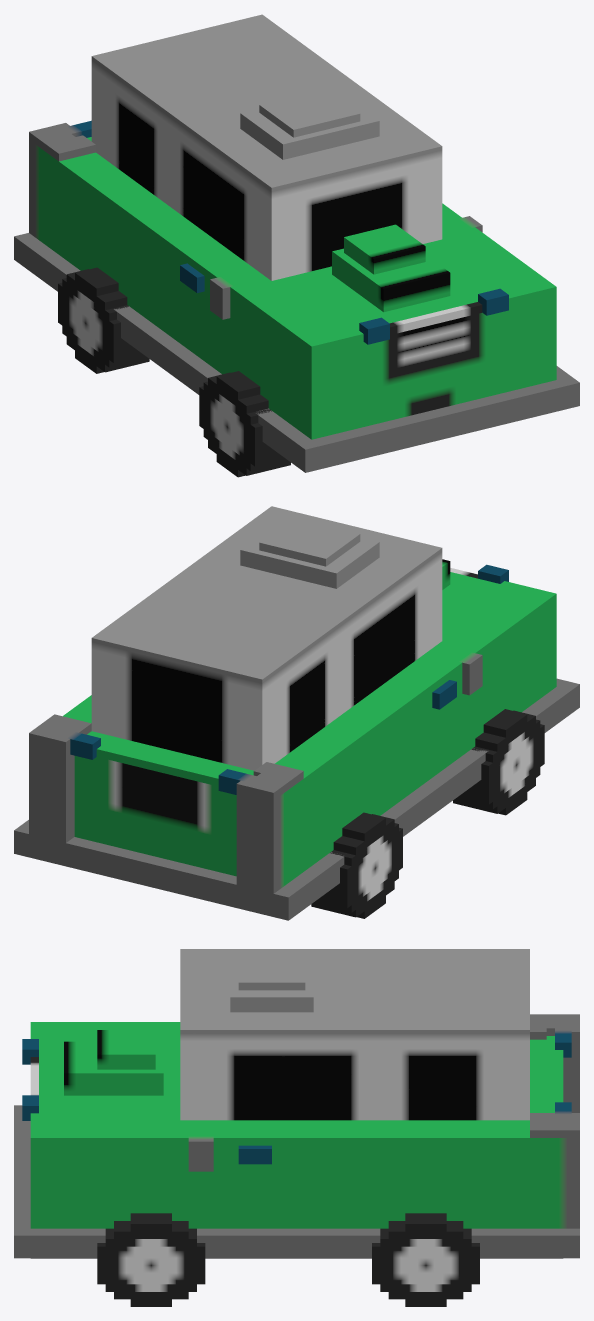
The model's file is car_modern_3.fbx.
3 views of the same model, one above another, from view 1: azimuth 30°, elevation 25°; view 2: azimuth 150°, elevation 25°; view 3: azimuth 270°, elevation 25° (orthographic). The views are drawn at different scales.
Parts seen in each view (by area): view 1: body, back_right_wheel, back_left_wheel; view 2: body, back_right_wheel, back_left_wheel; view 3: body, front_right_wheel, front_left_wheel.
Part boxes in pixels (bbox=[...]): body: bbox=[14, 14, 579, 472]; back_right_wheel: bbox=[199, 371, 290, 477]; back_left_wheel: bbox=[58, 267, 149, 373]; body: bbox=[14, 506, 579, 920]; back_right_wheel: bbox=[453, 709, 544, 815]; back_left_wheel: bbox=[311, 812, 402, 918]; body: bbox=[14, 949, 579, 1258]; front_right_wheel: bbox=[97, 1213, 205, 1306]; front_left_wheel: bbox=[372, 1213, 479, 1306].
Size of the model in its own units: 39 by 36 by 68.
Materials: 1 (1 with a texture image).
